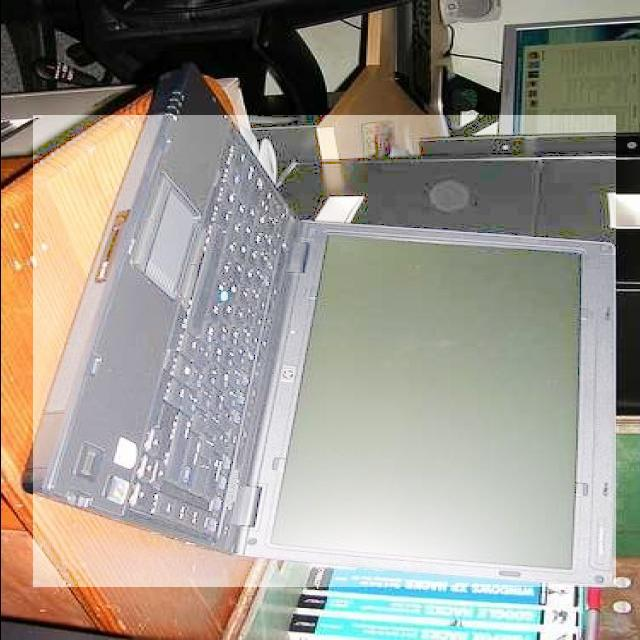-keyboard-: (33, 115, 616, 588)
